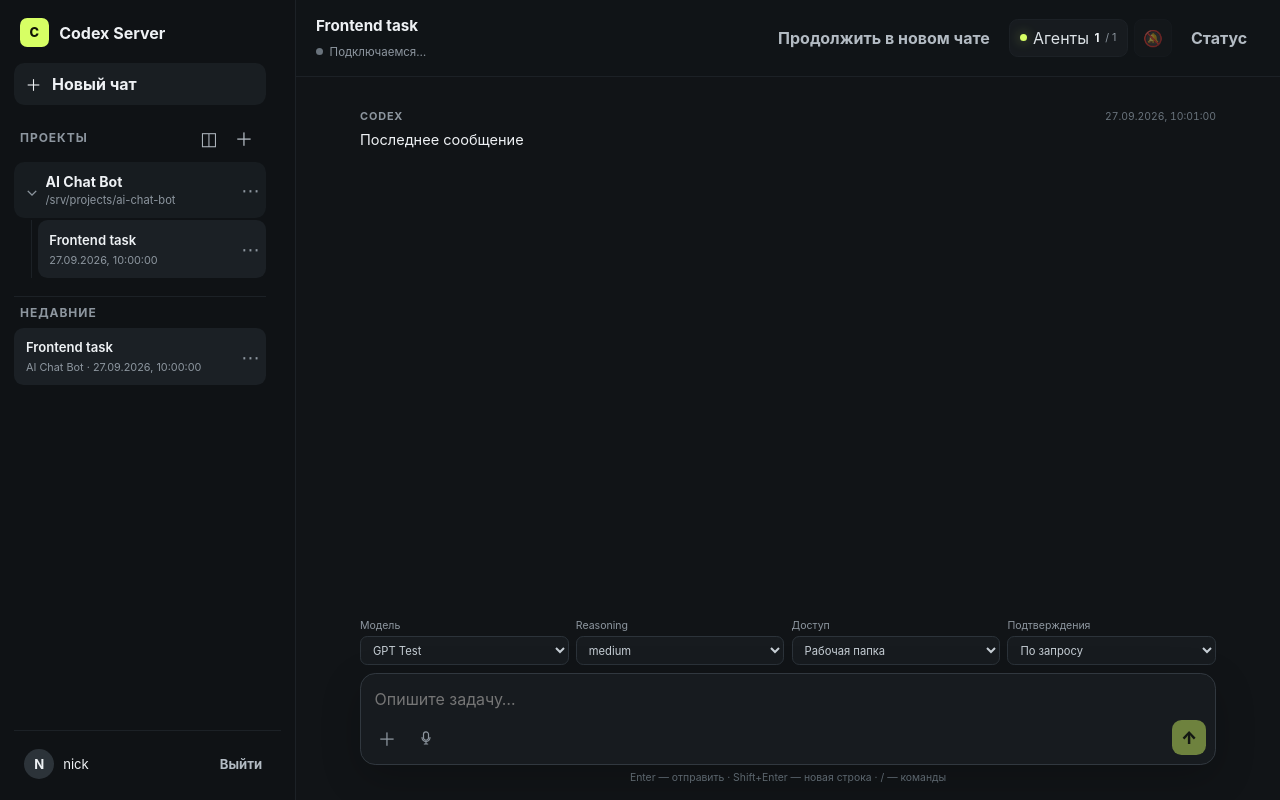
Test: App › shows server-owned subagents for the selected chat
Click the heading named "Агенты задачи: активных 1, всего 1".
click(1068, 38)  # box [1009,19,1128,57]
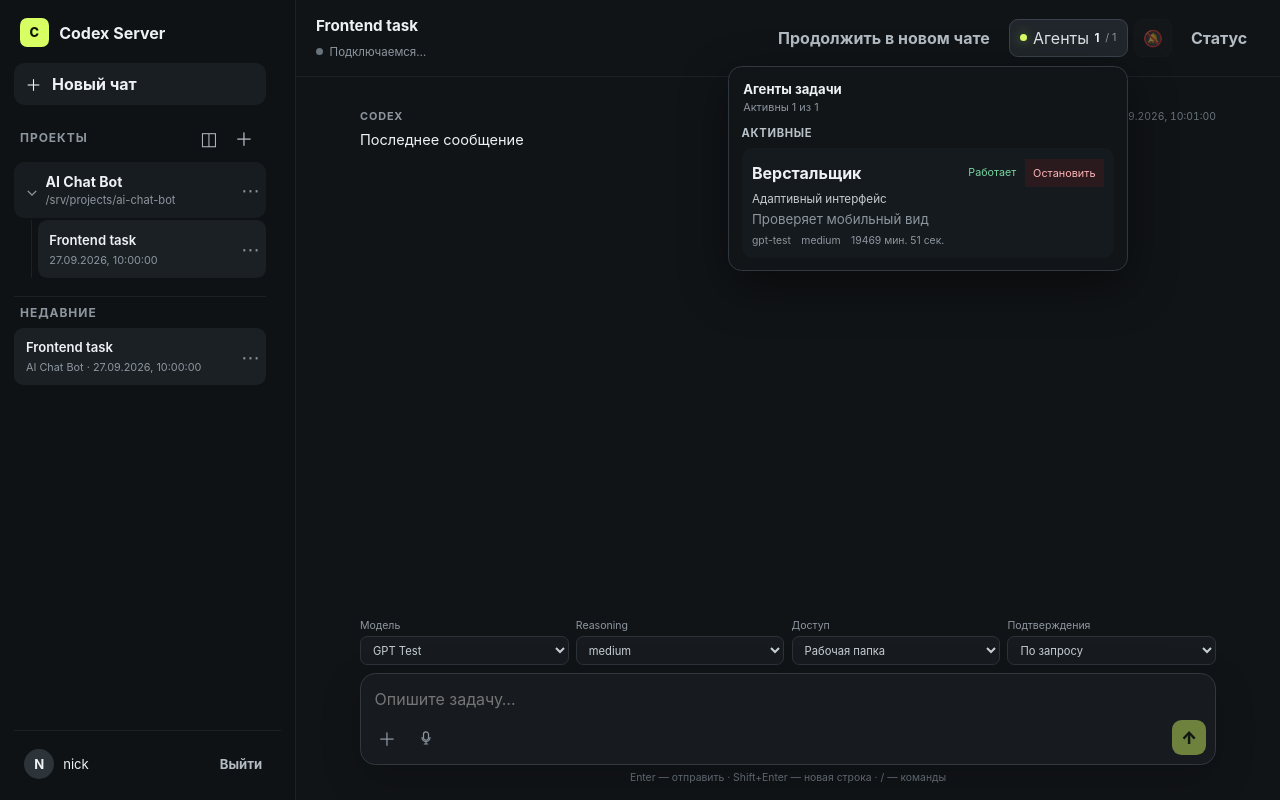
Result: the heading "Агенты задачи" is shown at [743,81,842,97]
Result: the text "Верстальщик" is shown at [752,163,862,183]
Result: the text "Адаптивный интерфейс" is shown at [752,192,887,206]
Click the button with aria-label "Остановить агента Верстальщик".
click(1064, 173)  # box [1025,159,1104,187]
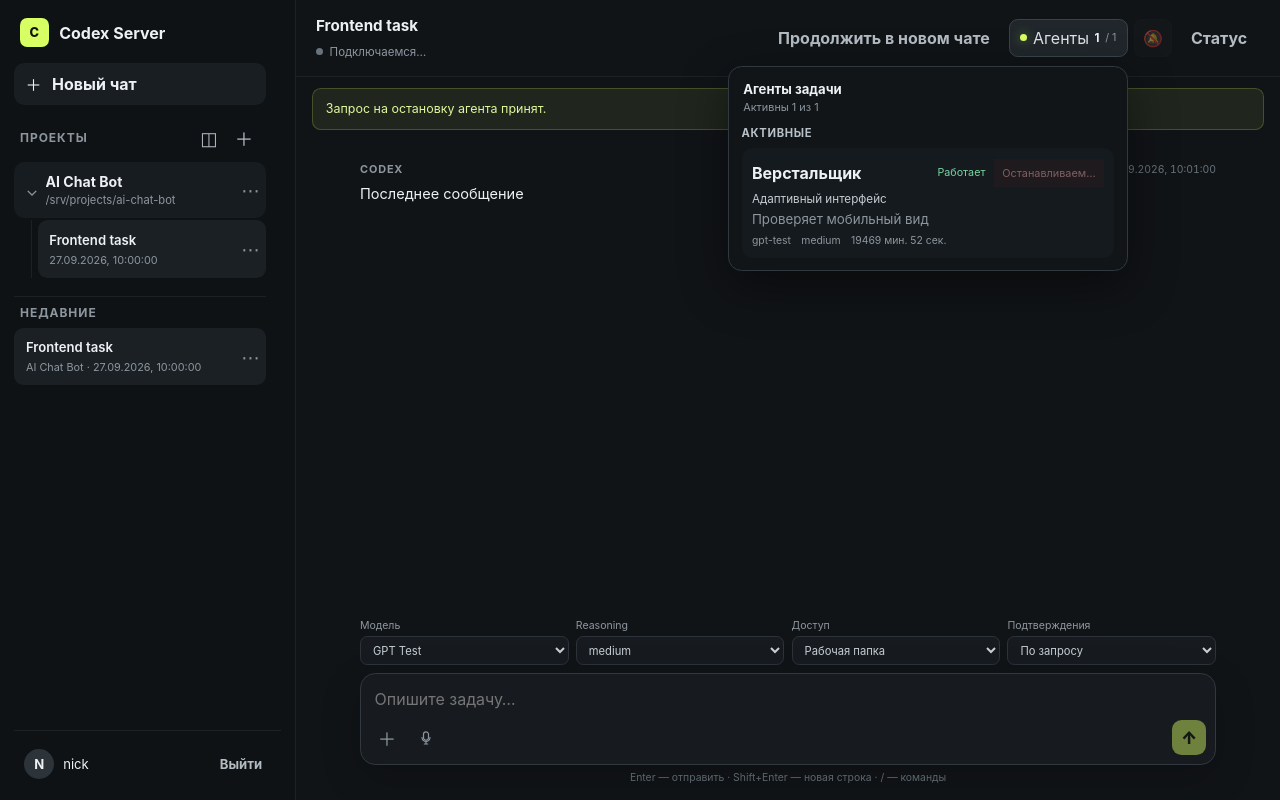
Result: the message shows "Запрос на остановку агента принят" at [326,101,546,116]
